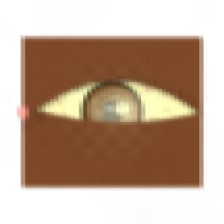corneal_ulcer: (88, 87, 149, 135)
